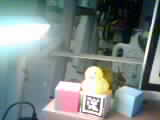duck: (76, 58, 109, 90)
